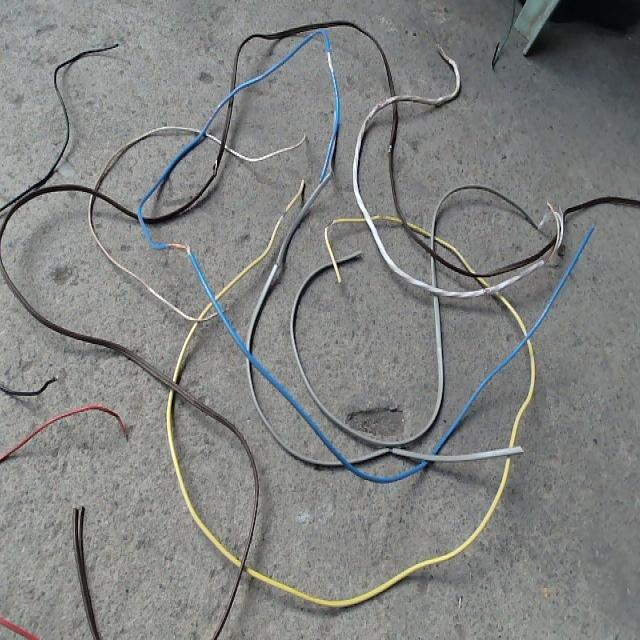-: (166, 241, 189, 251), (323, 218, 333, 226), (281, 208, 286, 216)
